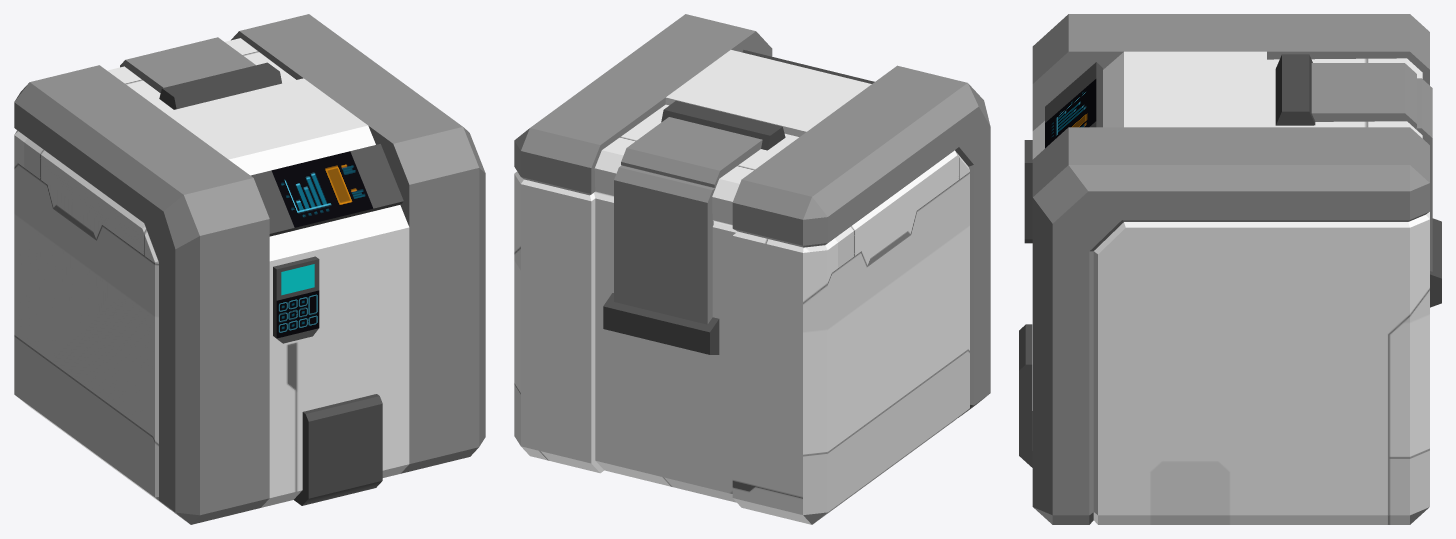
Rendered from SM_Container_Medium_Box_3.fbx.
The picture shows the model from 3 angles, left to right: view 1: azimuth 30°, elevation 25°; view 2: azimuth 150°, elevation 25°; view 3: azimuth 270°, elevation 25°; orthographic projection. The views are drawn at different scales.
Visible parts, largest first — view 1: SM_Container_Medium_Box_3; view 2: SM_Container_Medium_Box_3; view 3: SM_Container_Medium_Box_3.
Boxes of the visible parts, <box> form: SM_Container_Medium_Box_3: <box>14,14,485,524</box>; SM_Container_Medium_Box_3: <box>514,14,990,524</box>; SM_Container_Medium_Box_3: <box>1019,14,1441,524</box>.
Size of the model in its own units: 160 by 163 by 170.
